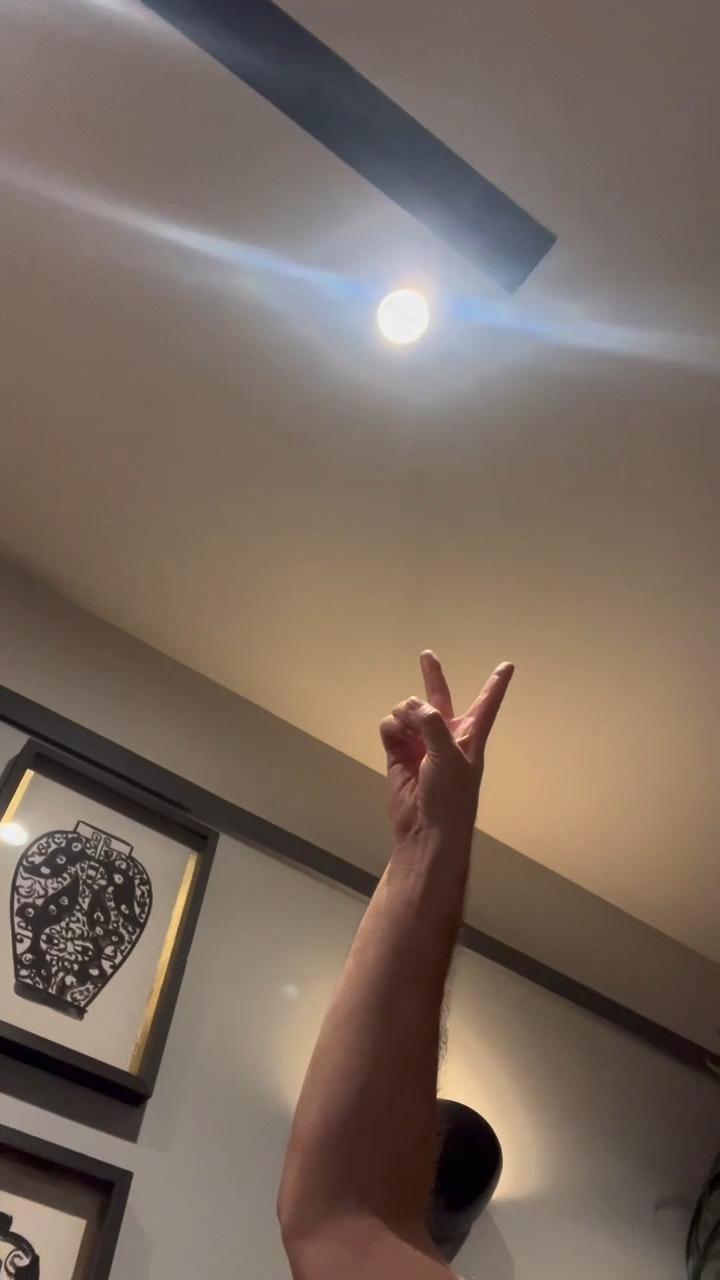Scissors: (372, 644, 522, 832)
